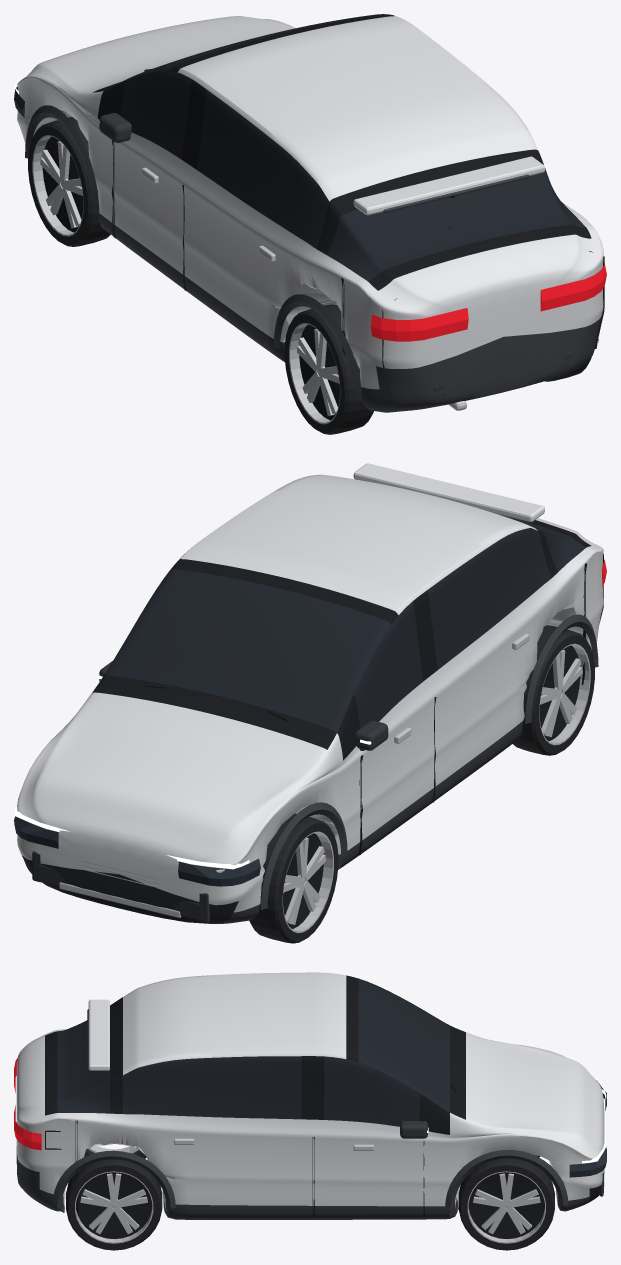
Rendered from car_crossover.glb.
3 renders of one model, top to bottom at view 1: azimuth 30°, elevation 25°; view 2: azimuth 150°, elevation 25°; view 3: azimuth 270°, elevation 25°, orthographic. The views are drawn at different scales.
Visible parts, largest first — view 1: car_crossover; view 2: car_crossover; view 3: car_crossover.
Part boxes in pixels (x1,y1,x2,y2): car_crossover: [14, 14, 606, 434]; car_crossover: [14, 463, 606, 943]; car_crossover: [14, 972, 606, 1250].
Bounding box in the file's own units: 1.8 × 1.62 × 4.4.
